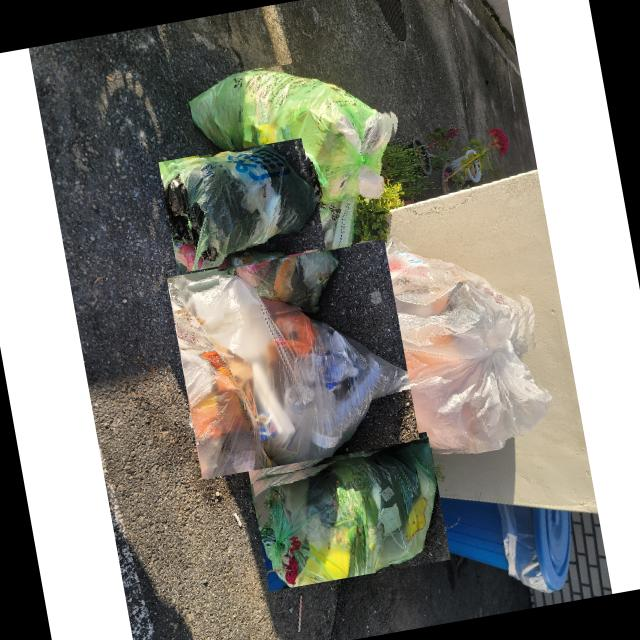general_trashbag: (189, 68, 393, 201), (259, 441, 435, 584), (162, 143, 316, 269), (218, 235, 318, 317), (315, 196, 359, 252)
other_trashbag: (169, 279, 409, 464), (341, 250, 548, 448)
